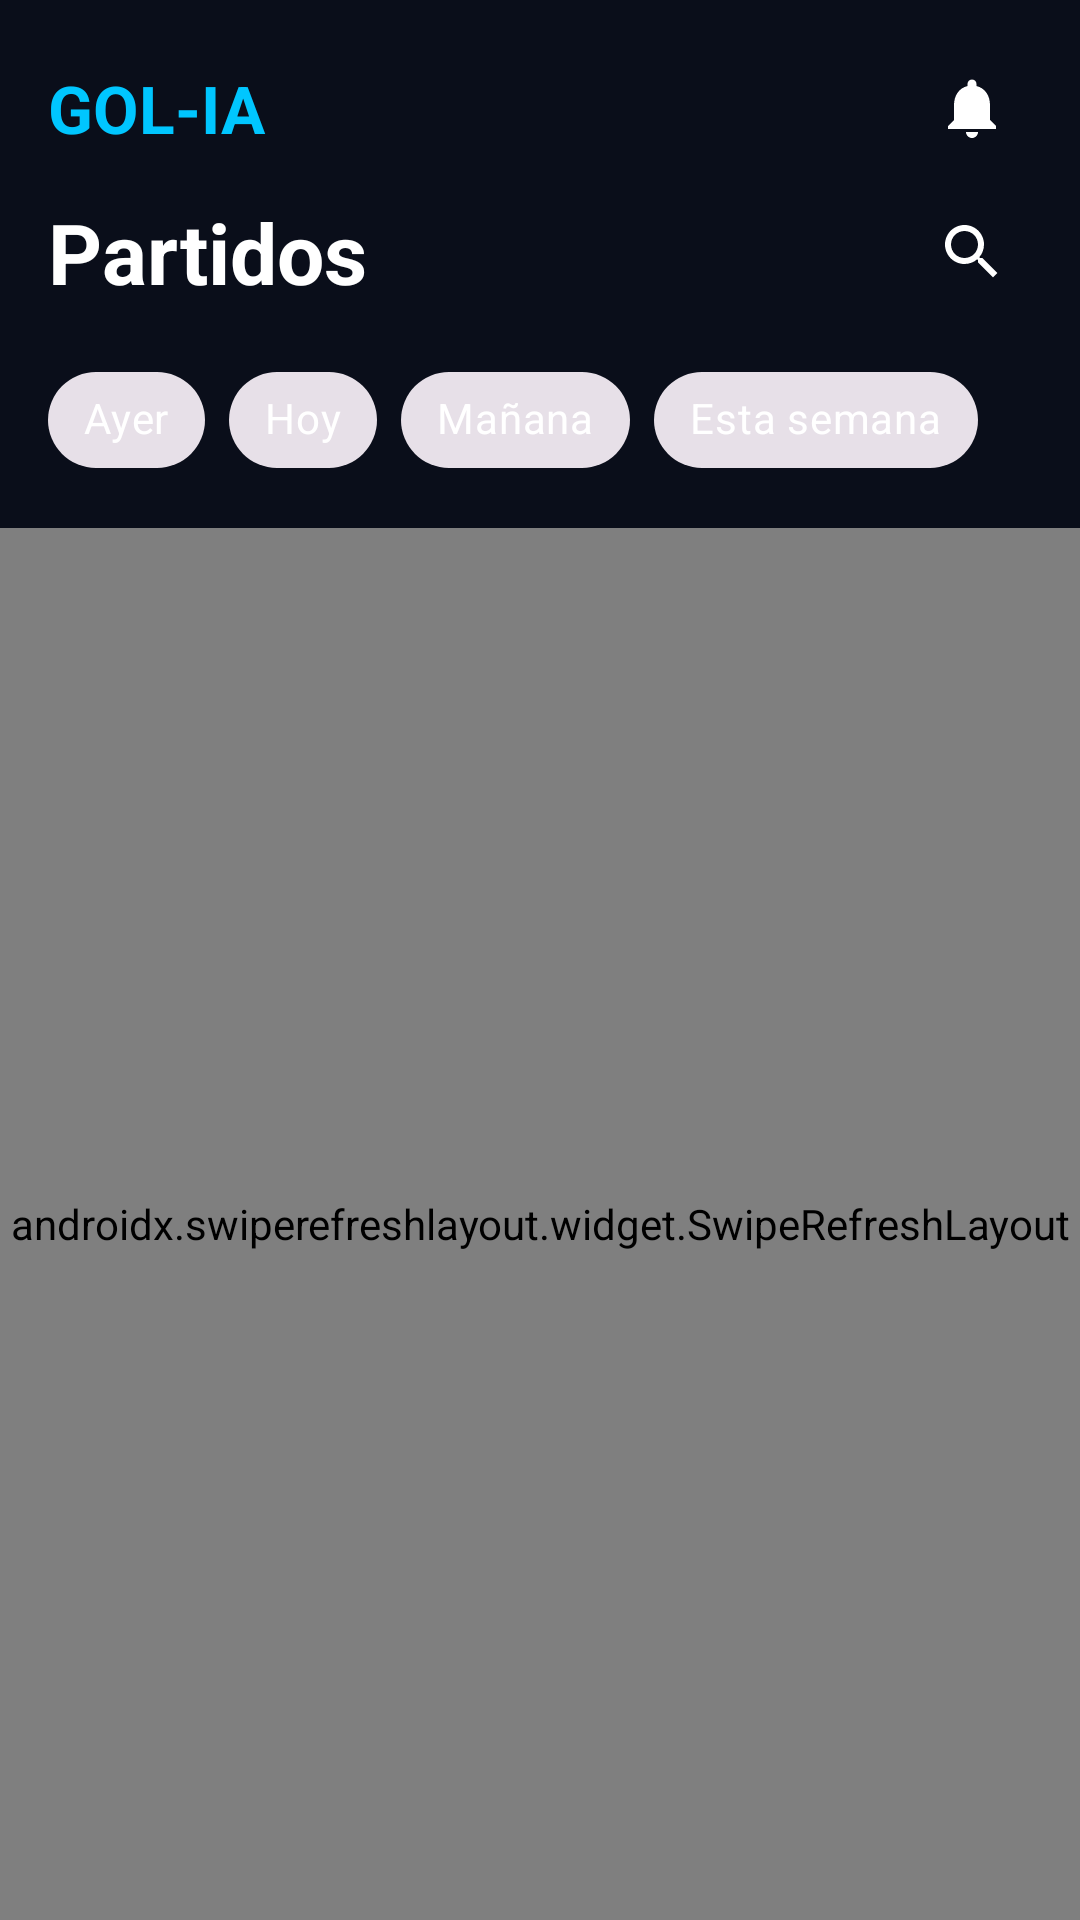

Named icons in this screenshot (1080w x 1920h) and their bounding boxes, (x1,y1,x2,y2):
Buscar: (945,225,997,277)
Notificaciones: (948,79,996,138)
